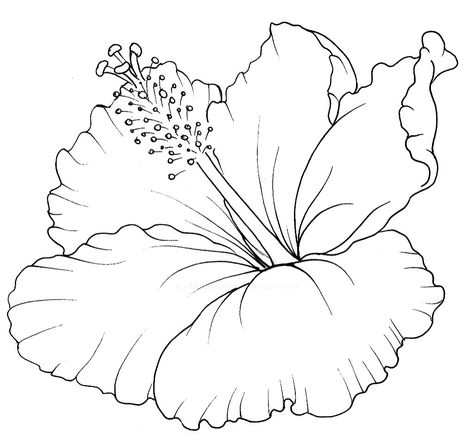Hibiscus: (6, 23, 462, 425)
